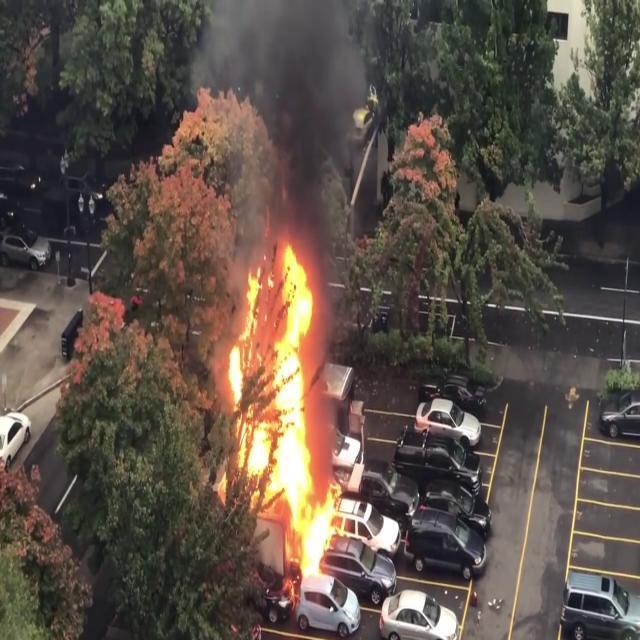Fire: (218, 236, 342, 584)
Smoke: (212, 0, 378, 255)
